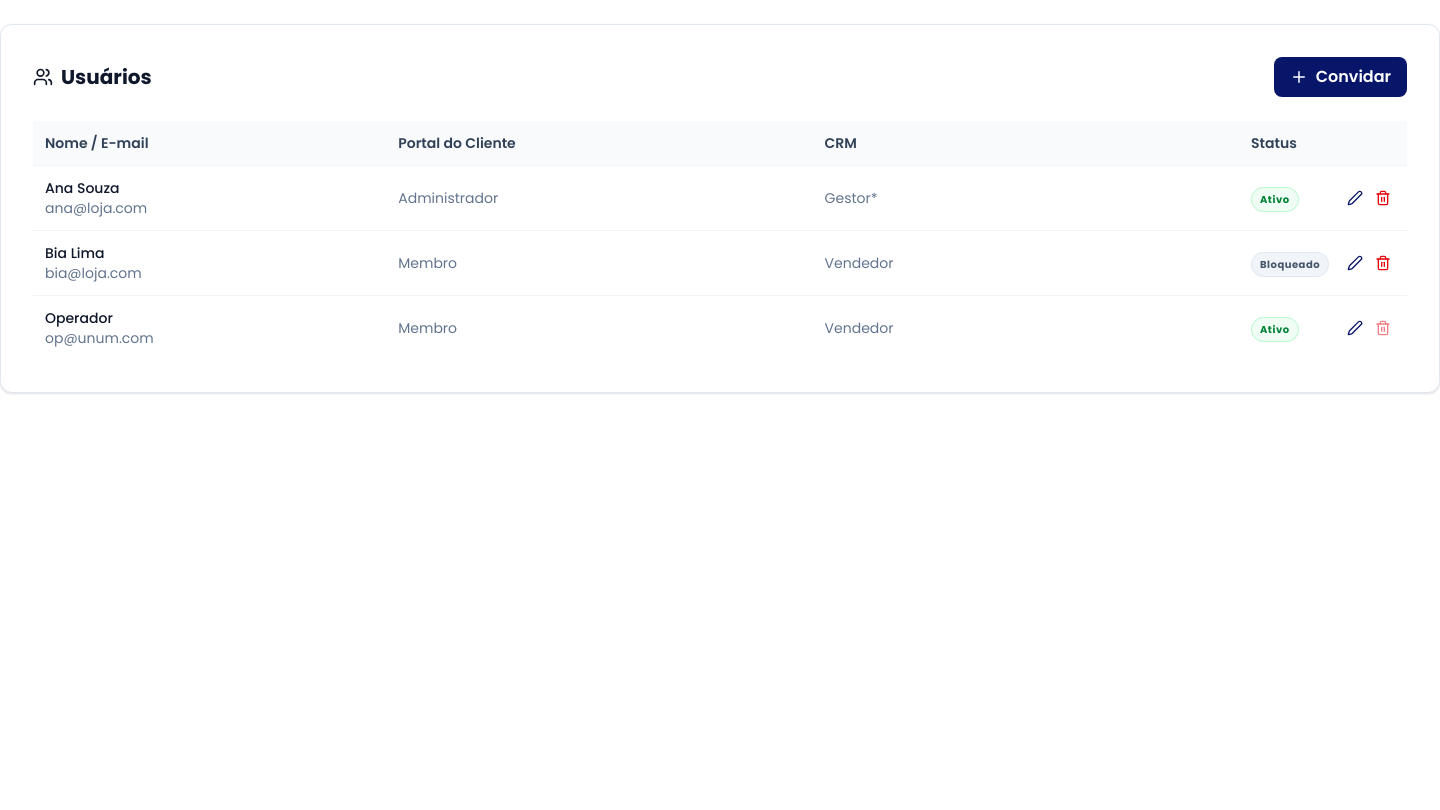
Test: TenantUsersSection › redefinir senha confirma na gaveta e avisa
The width and height of the screenshot is (1440, 810).
Click the button named "Editar acesso de Ana Souza" at (1355, 198), box [1343,186,1367,210]
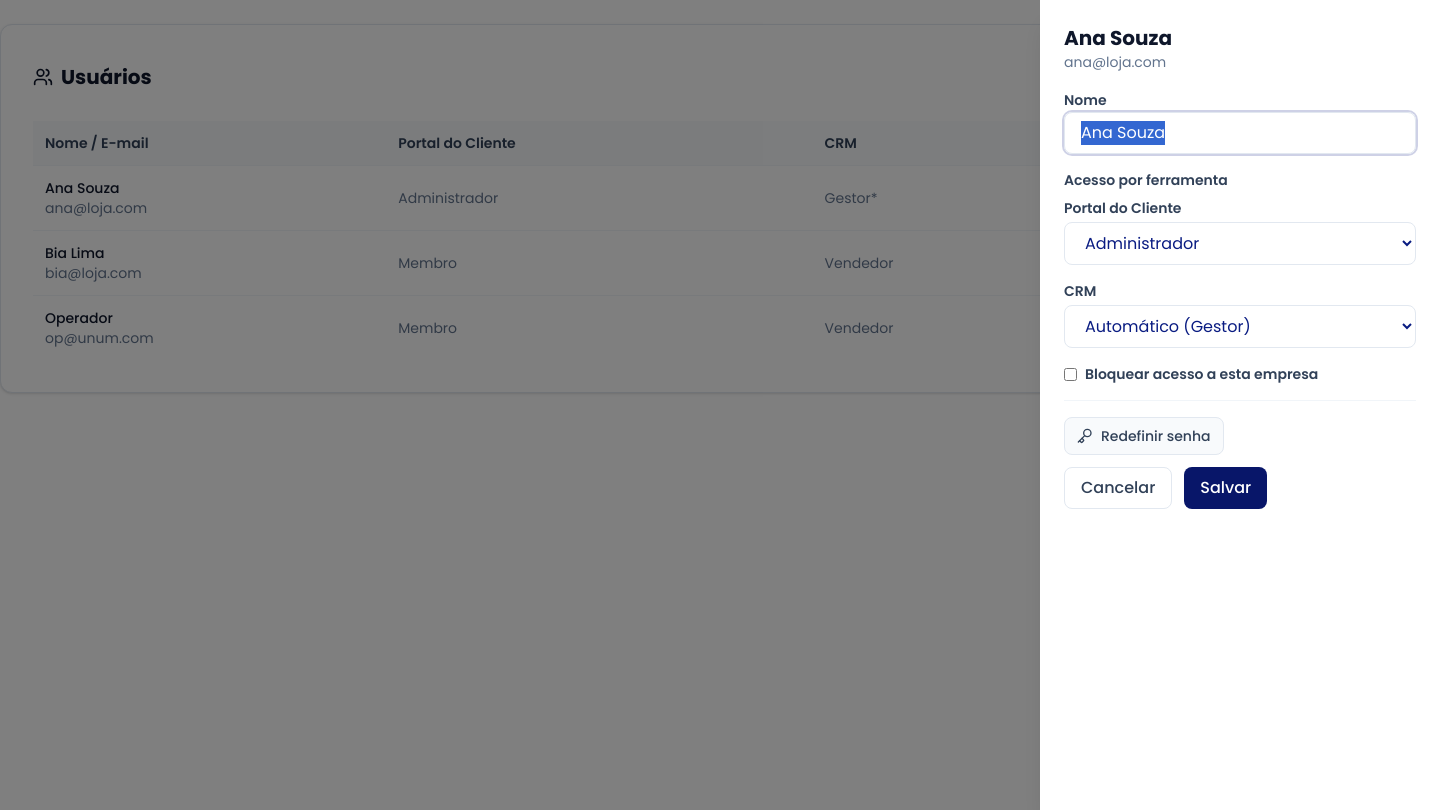
Click the button "Redefinir senha" at (1144, 436), box [1064,417,1224,455]
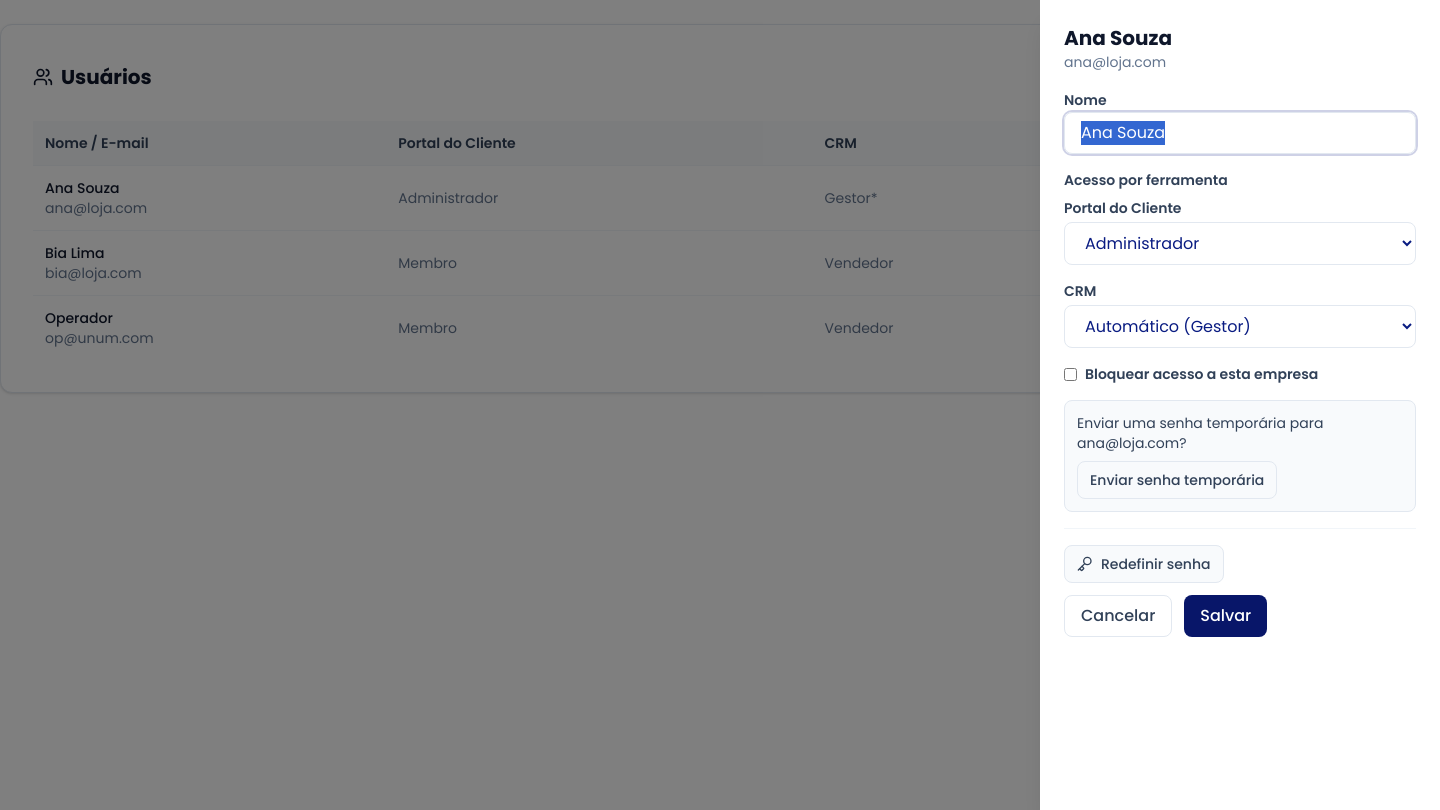
Click the button "Enviar senha temporária" at (1177, 480), box [1077,461,1277,499]
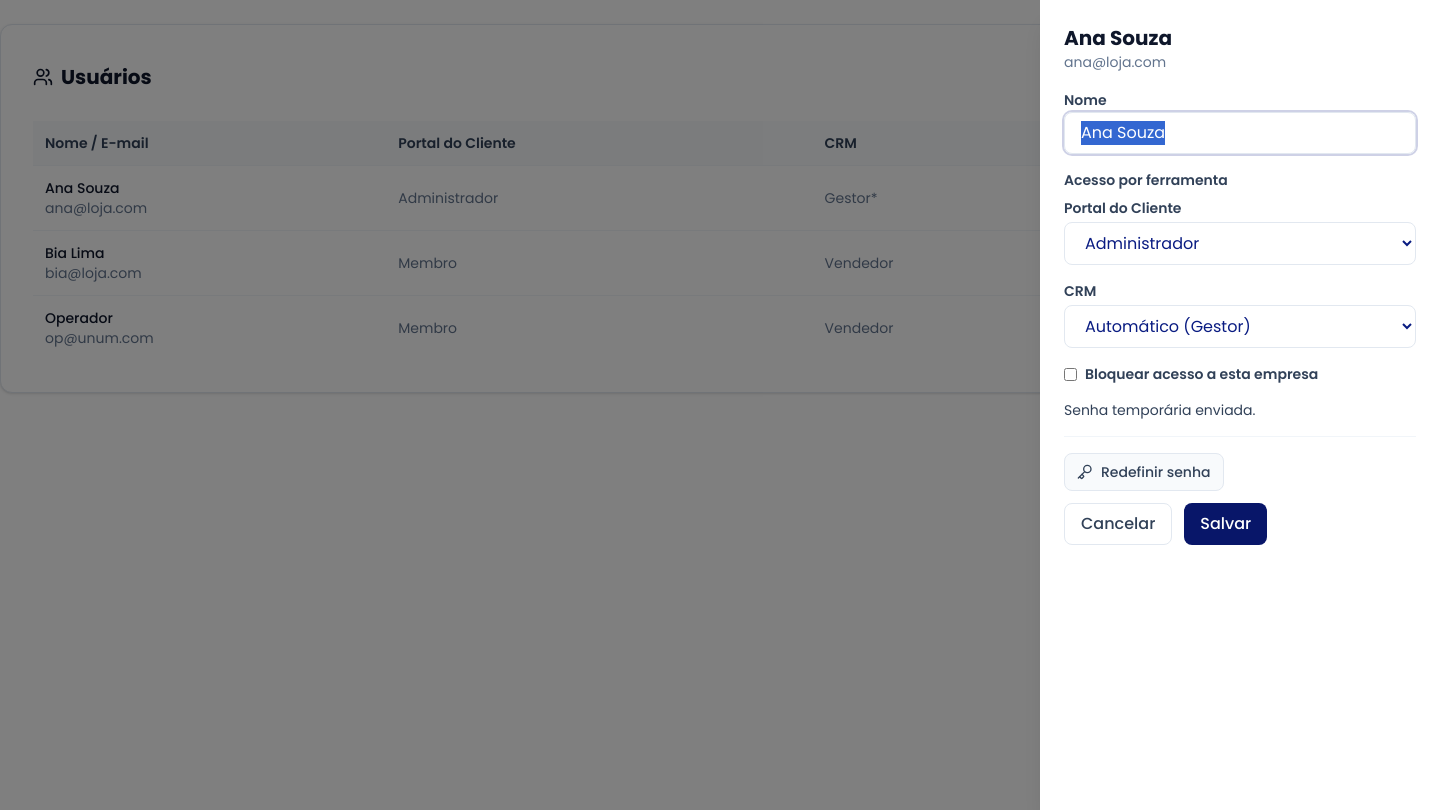
Now the message reads "Senha temporária enviada.", box [1064,400,1256,420]
